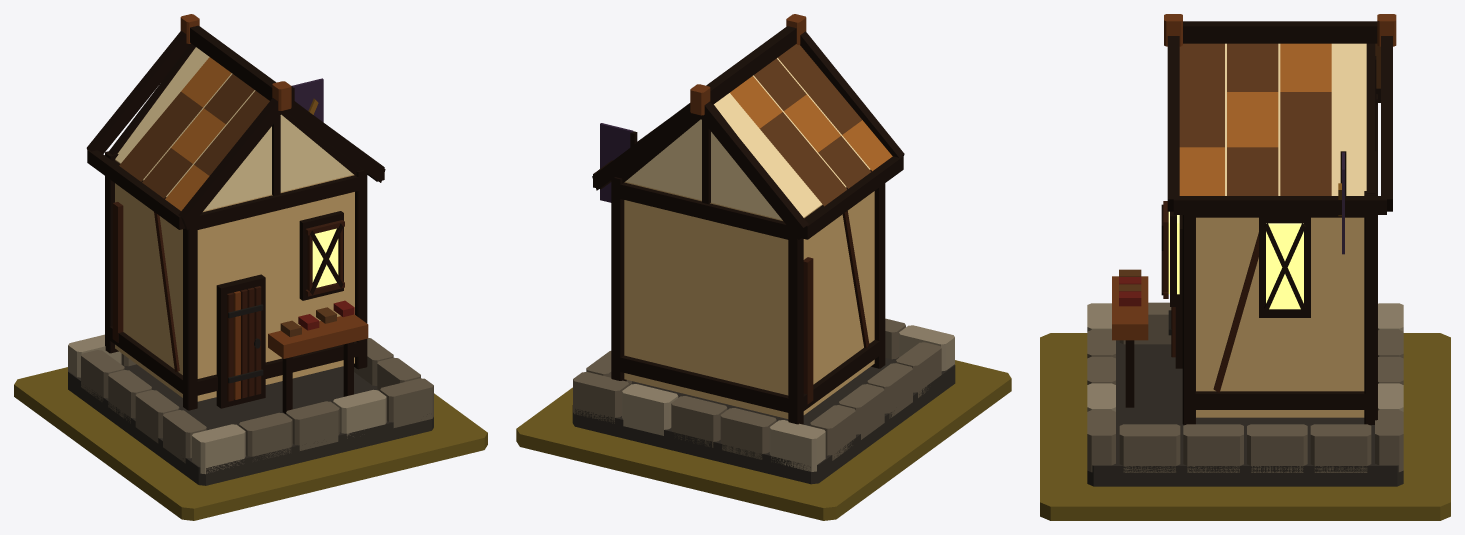
Rendered from scriptorium_t2.glb.
3 renders of one model, left to right at view 1: azimuth 30°, elevation 25°; view 2: azimuth 150°, elevation 25°; view 3: azimuth 270°, elevation 25°, orthographic. The views are drawn at different scales.
Parts seen in each view (by area): view 1: MMR | scriptorium | T02 Architecture.001, MMR | scriptorium | Tier 02 Ground.001, MMR | scriptorium | T02 Banner Flag 1.001; view 2: MMR | scriptorium | T02 Architecture.001, MMR | scriptorium | Tier 02 Ground.001, MMR | scriptorium | T02 Banner Flag 1.001; view 3: MMR | scriptorium | T02 Architecture.001, MMR | scriptorium | Tier 02 Ground.001.
Boxes of the visible parts, <box> form: MMR | scriptorium | T02 Architecture.001: <box>68,14,433,485</box>; MMR | scriptorium | Tier 02 Ground.001: <box>14,367,487,520</box>; MMR | scriptorium | T02 Banner Flag 1.001: <box>291,78,323,122</box>; MMR | scriptorium | T02 Architecture.001: <box>572,14,955,484</box>; MMR | scriptorium | Tier 02 Ground.001: <box>516,360,1011,520</box>; MMR | scriptorium | T02 Banner Flag 1.001: <box>600,123,633,202</box>; MMR | scriptorium | T02 Architecture.001: <box>1087,14,1403,486</box>; MMR | scriptorium | Tier 02 Ground.001: <box>1040,333,1450,520</box>.
Size of the model in its own units: 1.3 by 1.45 by 1.3.
2 materials, 1 textured.
